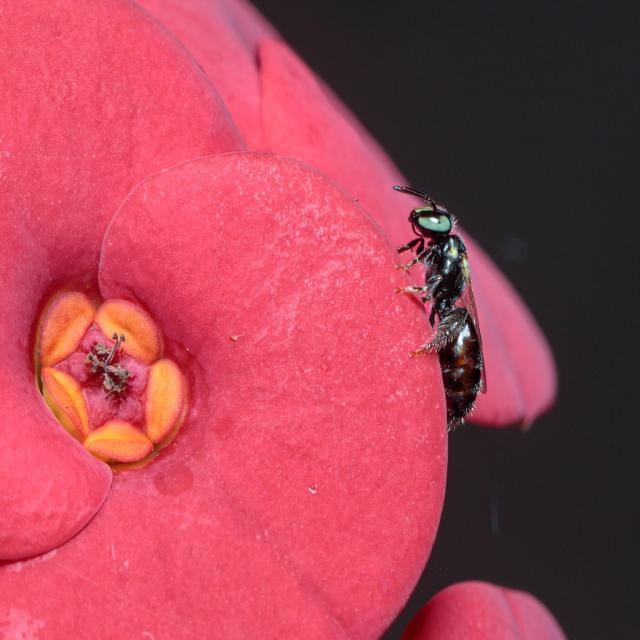Braunsapis: (385, 175, 506, 436)
